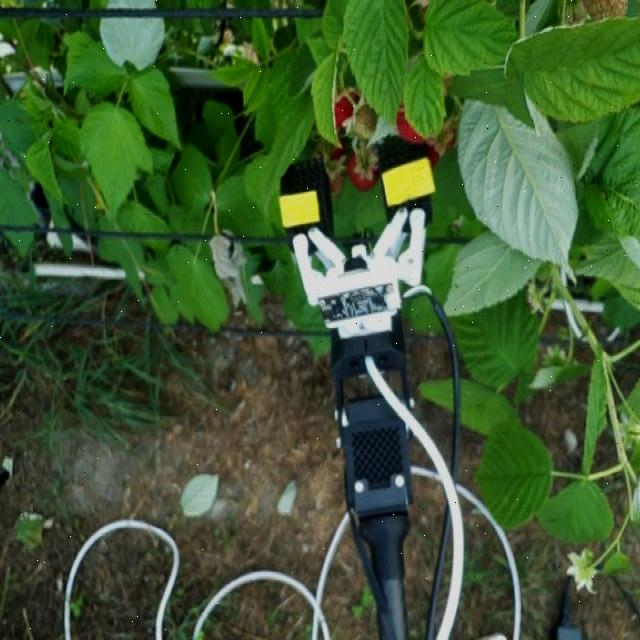Riped berries: (397, 95, 433, 146), (347, 147, 384, 192), (330, 83, 367, 125)
